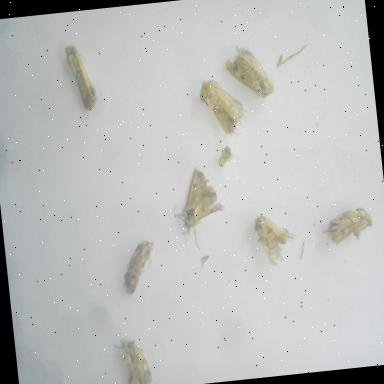abw: (168, 162, 231, 258), (219, 37, 278, 108), (196, 72, 252, 144), (250, 210, 304, 274), (62, 38, 102, 118), (320, 202, 378, 255), (117, 236, 162, 302), (110, 333, 156, 384)
